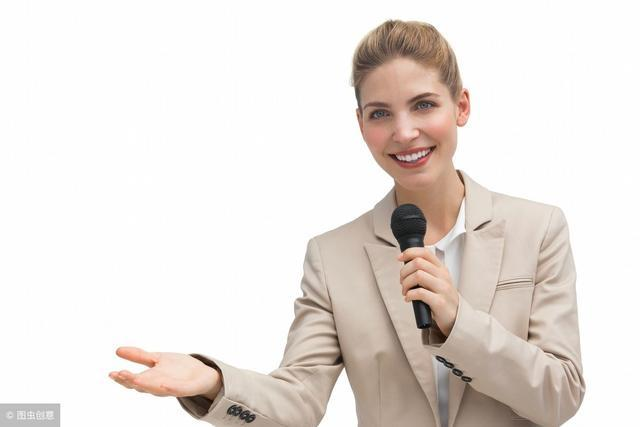no-phone: (107, 341, 220, 400)
